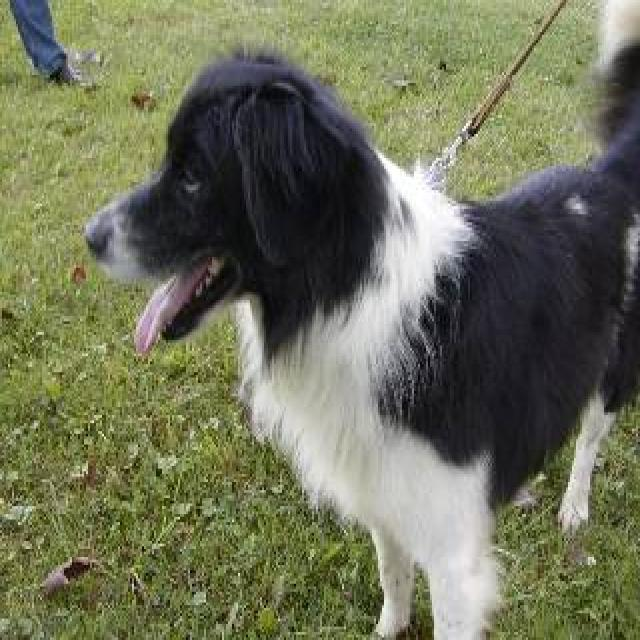Dog: (78, 38, 298, 357)
